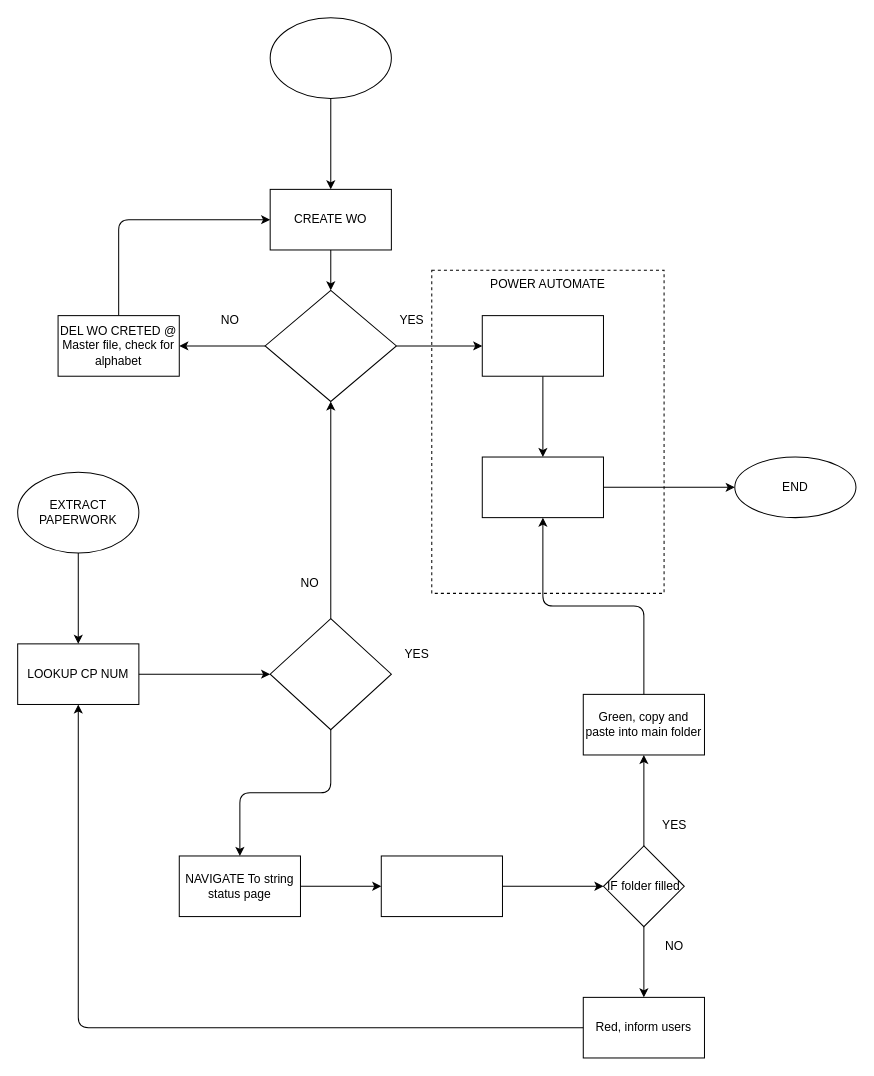
Some shapes in this 874 by 1076 pixel diagram are drawn without their labels. The box of each missing label's shape, as (x1, y1, x2, y2) in pixels:
Bring CP num forward and lookup folder with GP Tool: (380, 855, 502, 917)
CP NUM EXIST IN SP?: (269, 618, 391, 730)
CREATE MAIN FOLDER: (481, 315, 603, 376)
CREATE SUBFOLDER: (481, 456, 603, 518)
WO reflect in SP?: (264, 289, 396, 401)
